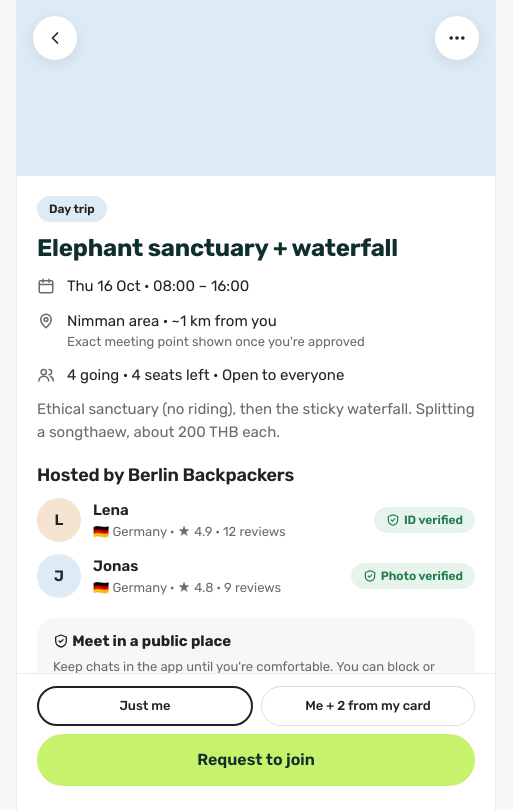
Test: mockup screens › reveals the exact meeting point only after approval
Expected: the text "7-Eleven" is not shown
Expected: the text "Exact meeting point shown once you're approved" is shown, [67,332,365,352]
Click the button "Request to join". click: x=256, y=760
box: [37,734,475,786]
(page scrolled)
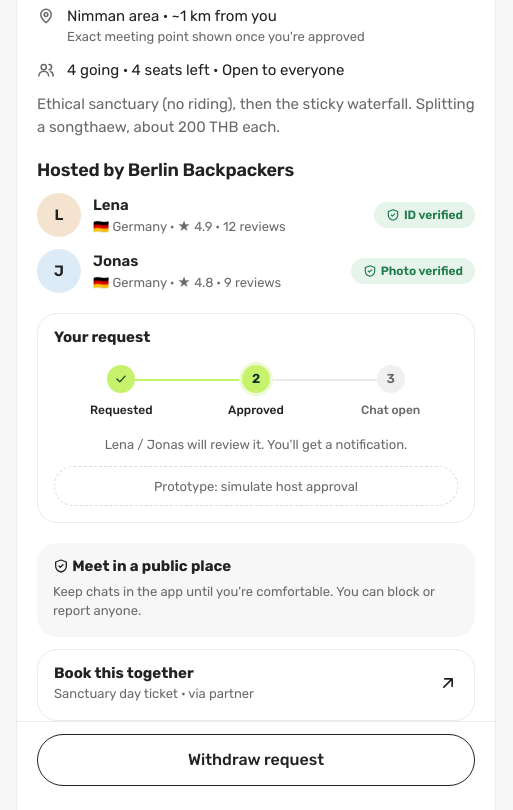
Click the button "Prototype: simulate host approval". click: x=256, y=486
box: [54,466,458,506]
(page scrolled)
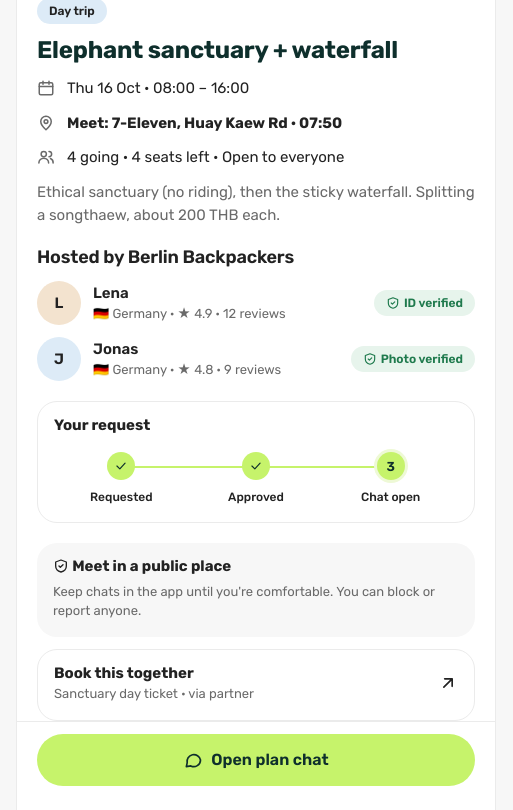
Result: the text "Meet: 7-Eleven, Huay Kaew Rd · 07:50" is shown at [67,112,342,134]
